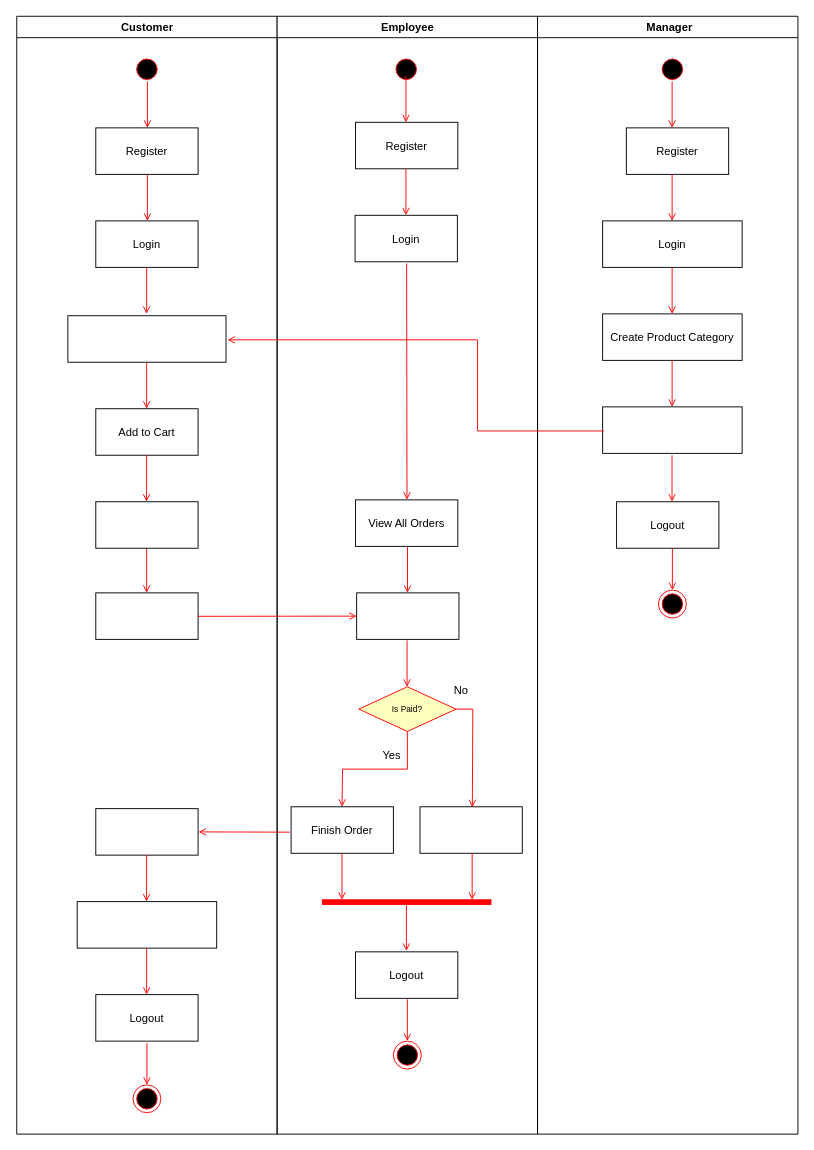
This 814x1150 diagram has some shape labels left out. Each missing label, with the centre of its shape:
"Cancel Order" belongs at pixel 470 829.
"Checkout Cart" belongs at pixel 146 615.
"Create Product" belongs at pixel 672 429.
"Product Category Predict" belongs at pixel 146 924.
"View All Products by Product Category" belongs at pixel 146 338.
"View Cart" belongs at pixel 146 524.
"View Order" belongs at pixel 407 615.
"View Subscription" belongs at pixel 146 831.
